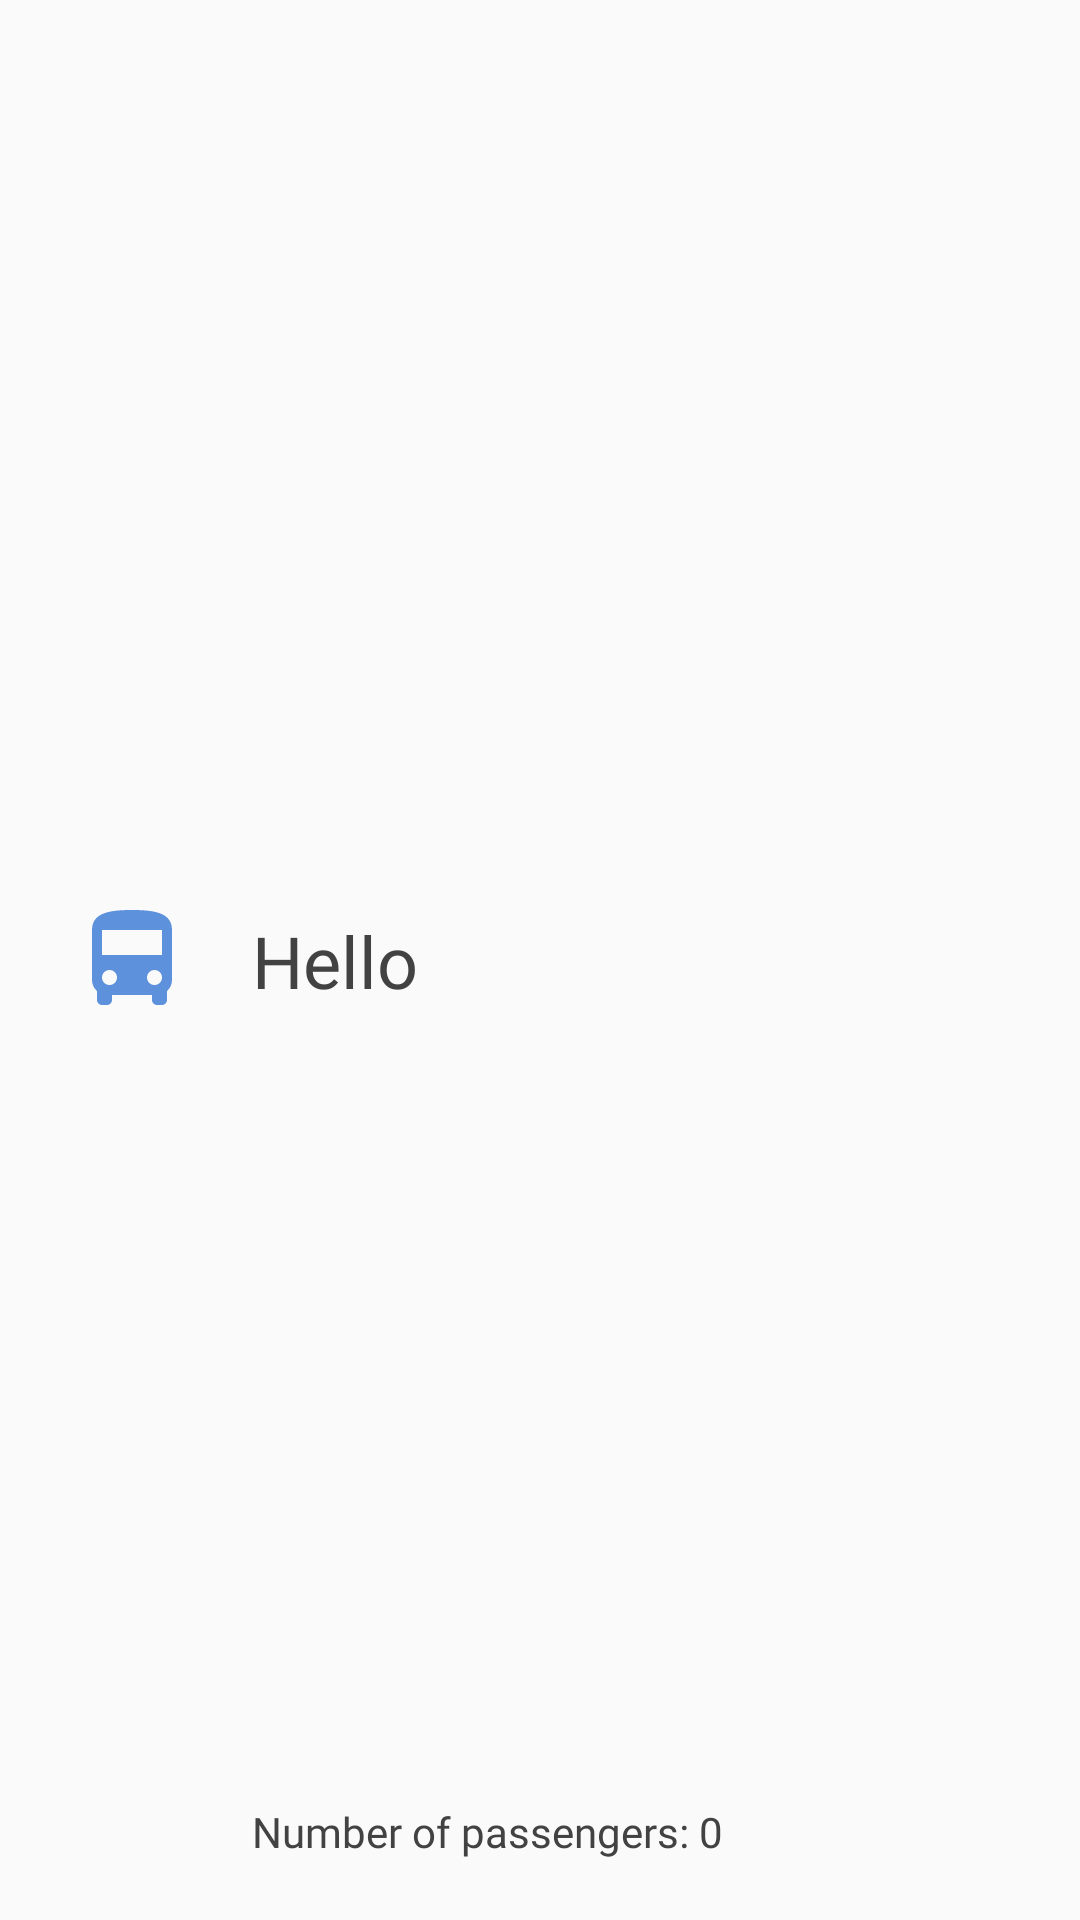

Where icons sit on this 1080 x 1920 app screen, as bbox=(x1, y1, x2, y2):
bus: bbox=(92, 910, 172, 1005)
